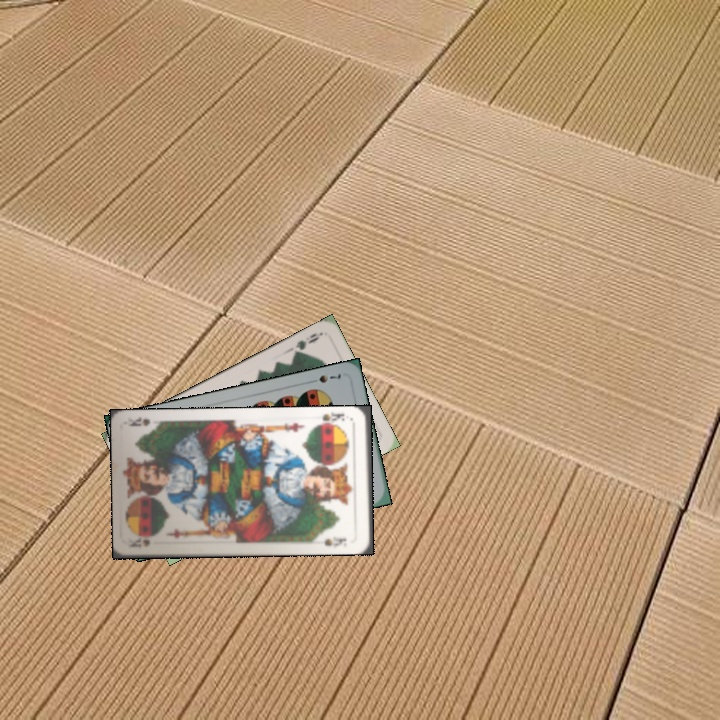G9: (289, 328, 324, 359)
S7: (305, 369, 344, 386)
SK: (314, 409, 347, 429), (127, 533, 152, 550)
